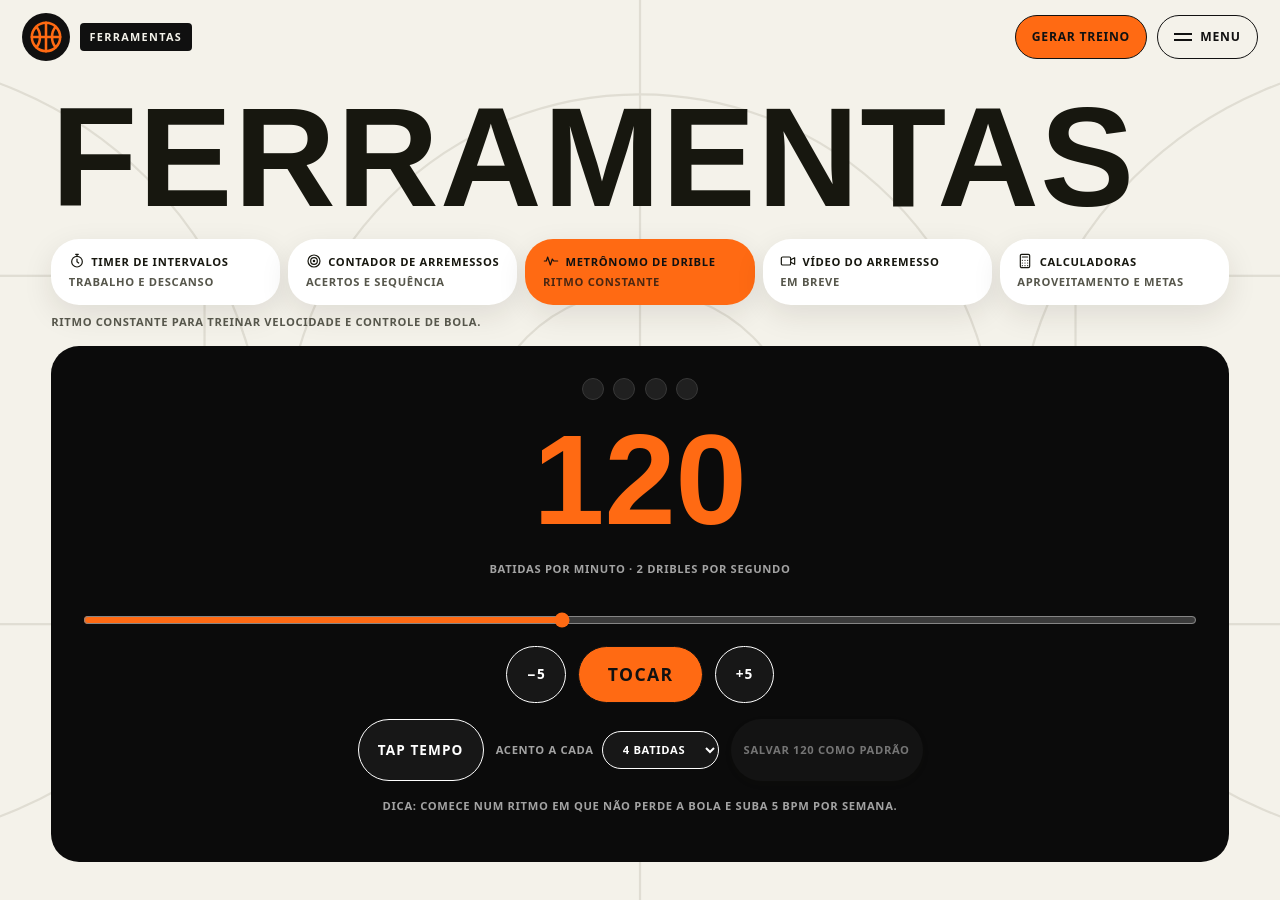
Test: Metrônomo de drible › começa no ritmo salvo nas configurações e toca, acende as luzes e para
Check: the text "batidas por minuto · 2 dribles por segundo" is shown, box [489,560,791,578]
Step 1. Click the button "Tocar" → (641, 674), box [578,646,703,703]
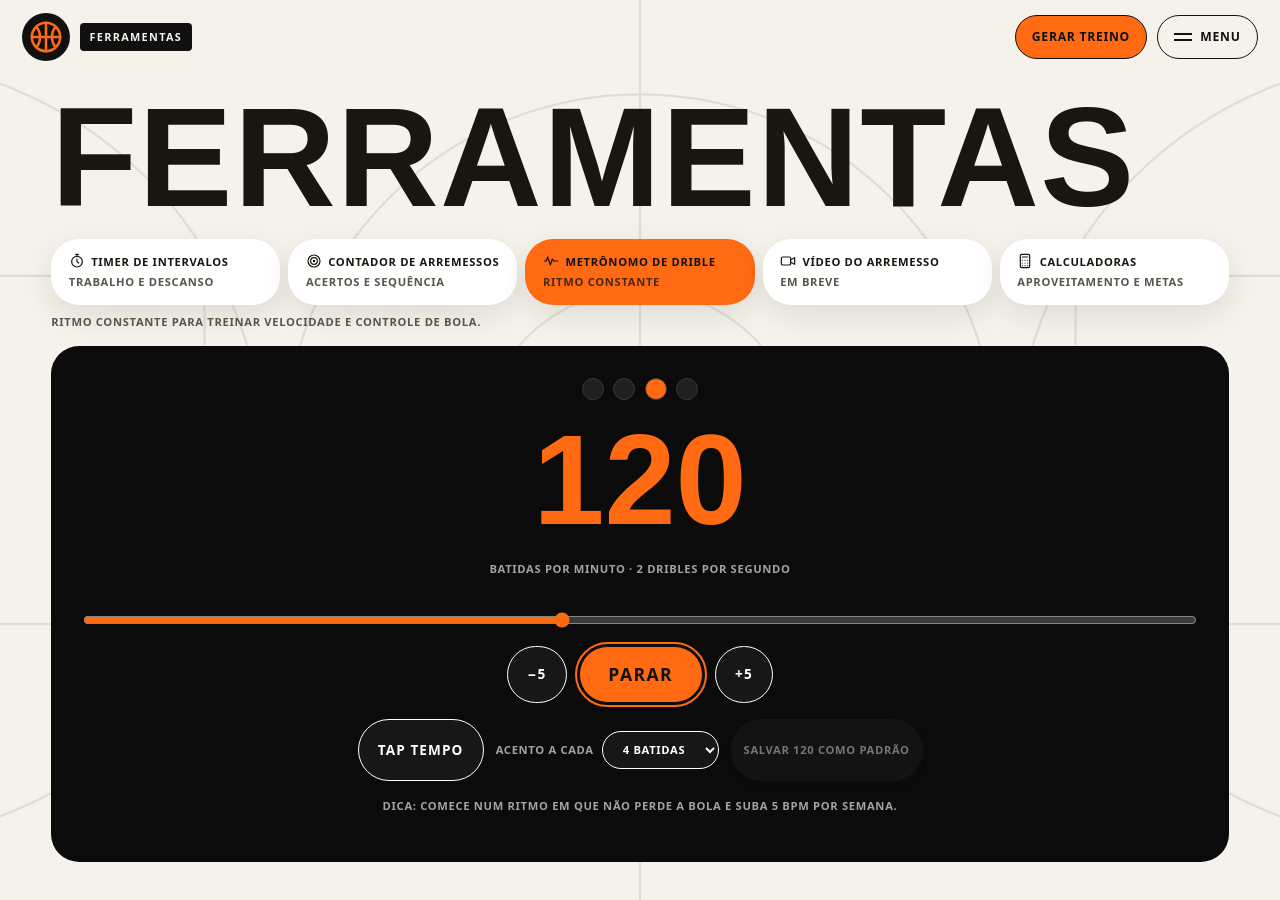
Step 2. Select "3 batidas" in the dropdown → (660, 750), box [602,731,719,769]
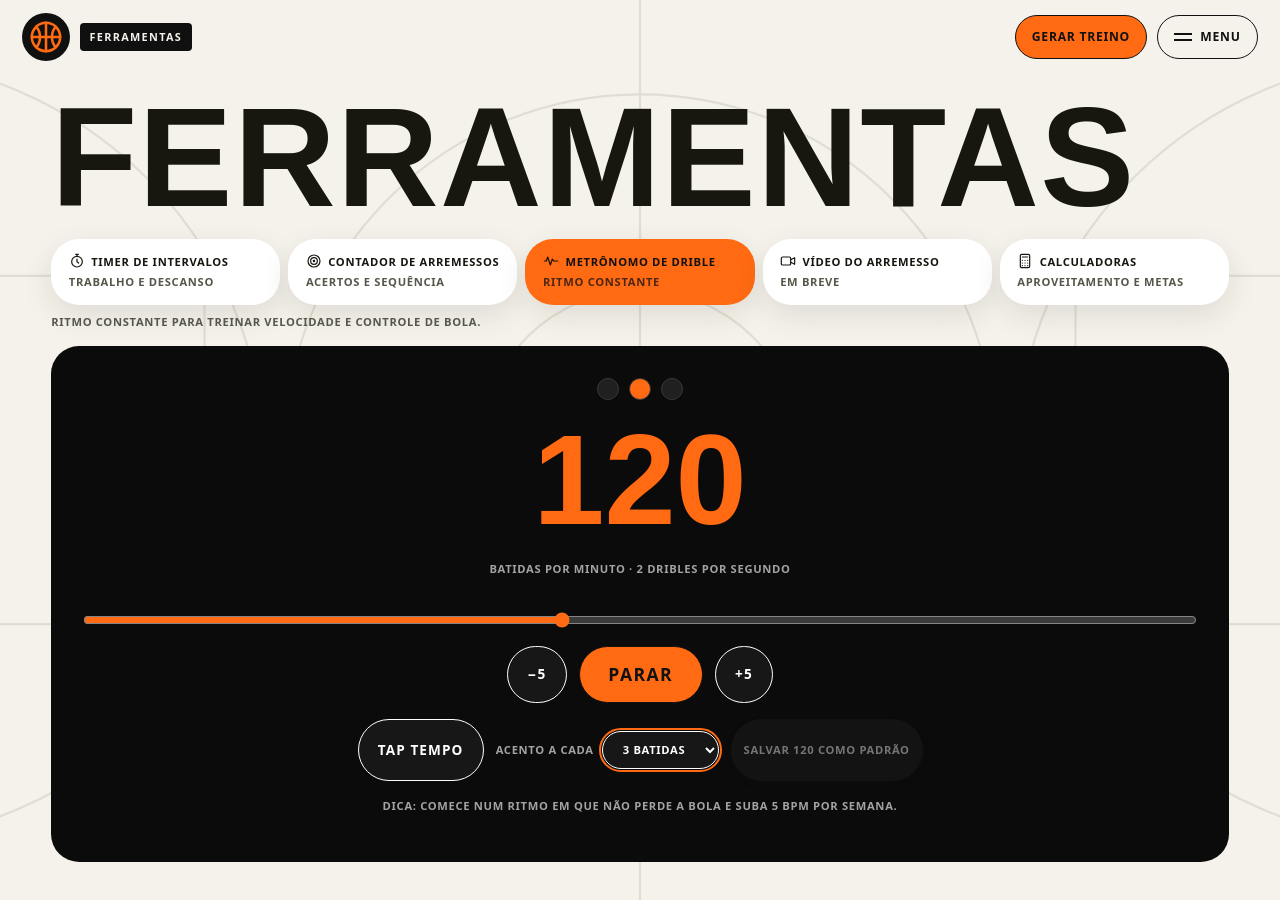
Step 3. Click the button "Parar" → (641, 674), box [579,646,703,703]
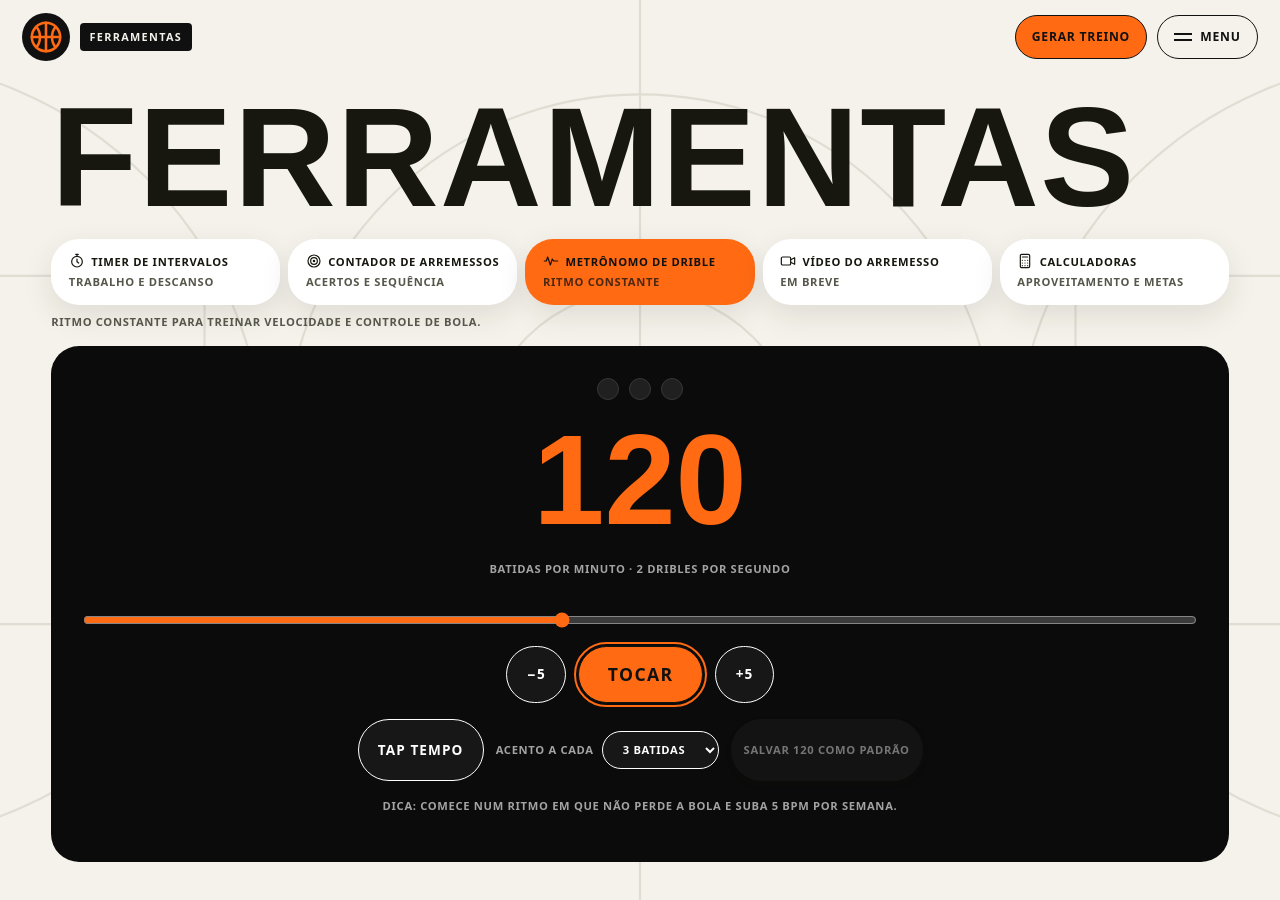
Check: the button "Tocar" is shown, box [578,646,703,703]
